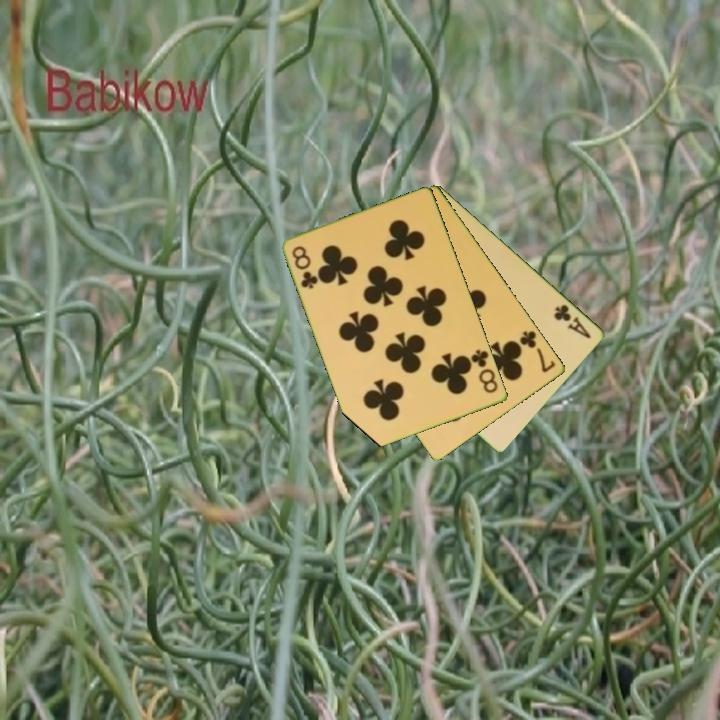7c: (516, 327, 559, 376)
8c: (466, 346, 501, 396), (289, 242, 321, 292)
Ac: (551, 301, 594, 342)
